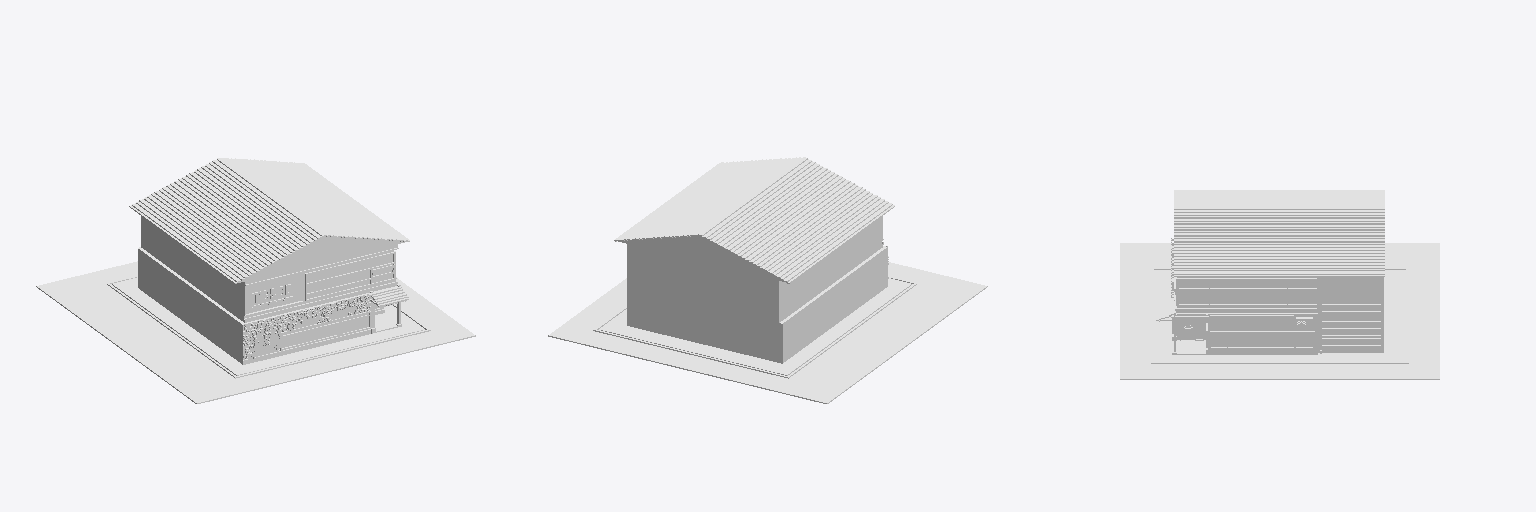
The model's file is bpw-5-TESCO.obj.
3 renders of one model, left to right at view 1: azimuth 30°, elevation 25°; view 2: azimuth 150°, elevation 25°; view 3: azimuth 270°, elevation 25°, orthographic.
Parts seen in each view (by area): view 1: TESCO; view 2: TESCO; view 3: TESCO.
Boxes of the visible parts, box(x1,y1,x2,y2) form: TESCO: box(36, 158, 475, 403); TESCO: box(548, 157, 987, 403); TESCO: box(1120, 190, 1439, 379).
Size of the model in its own units: 25.6 by 9.8 by 25.5.